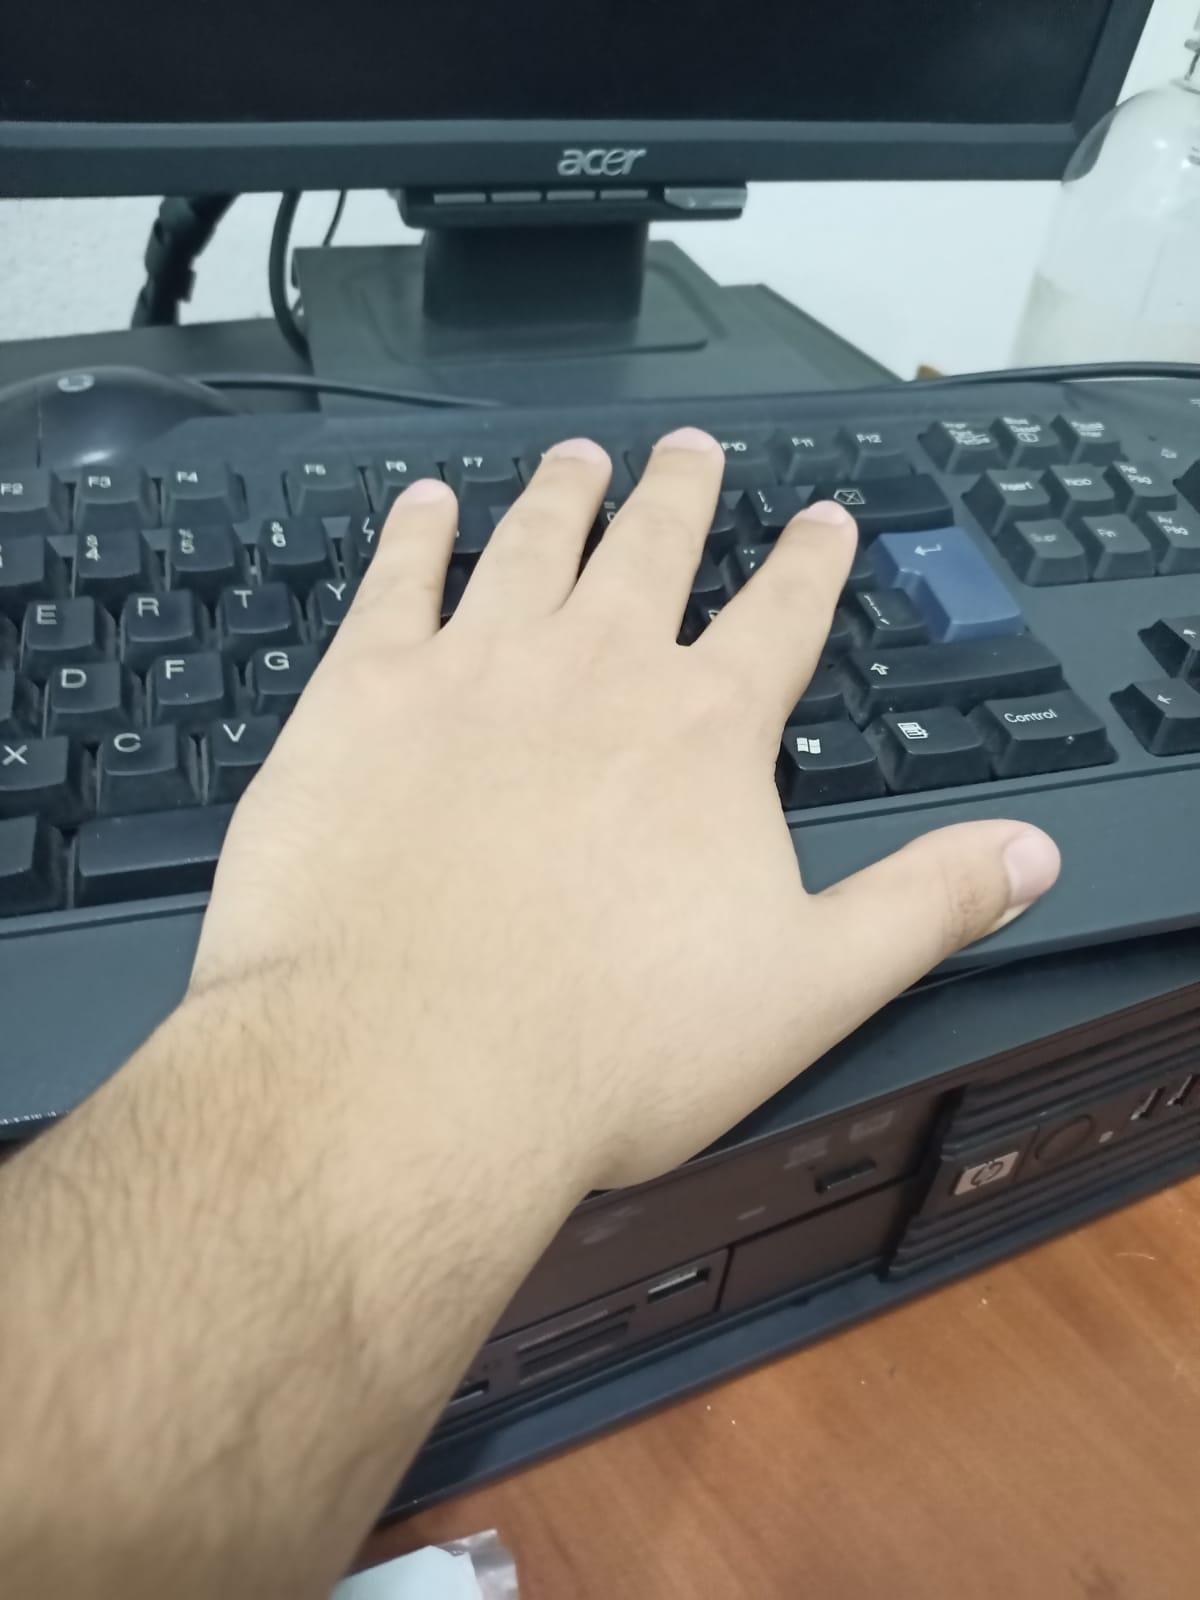Paper: (134, 402, 1085, 1246)
